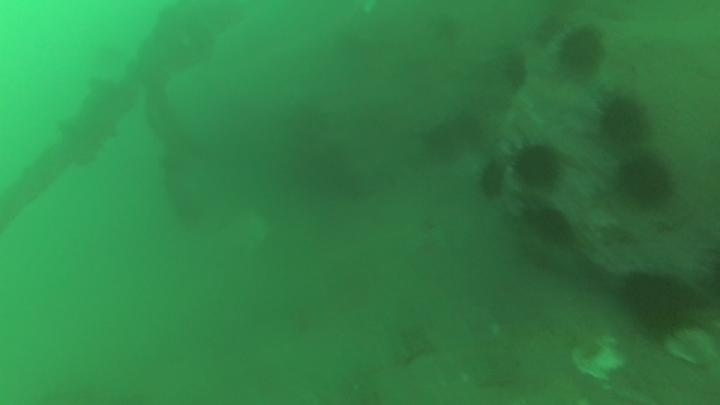echinus: (619, 269, 697, 338), (614, 151, 677, 209), (421, 112, 484, 164), (595, 93, 652, 148), (556, 25, 607, 78), (511, 141, 563, 190), (524, 203, 574, 246), (475, 157, 509, 203), (498, 50, 531, 94)
starfish: (391, 321, 439, 368)
